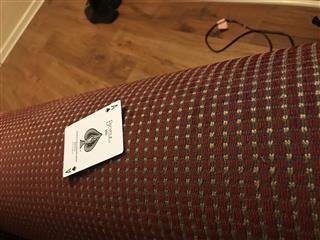AceOfSpades: (62, 99, 124, 177)
